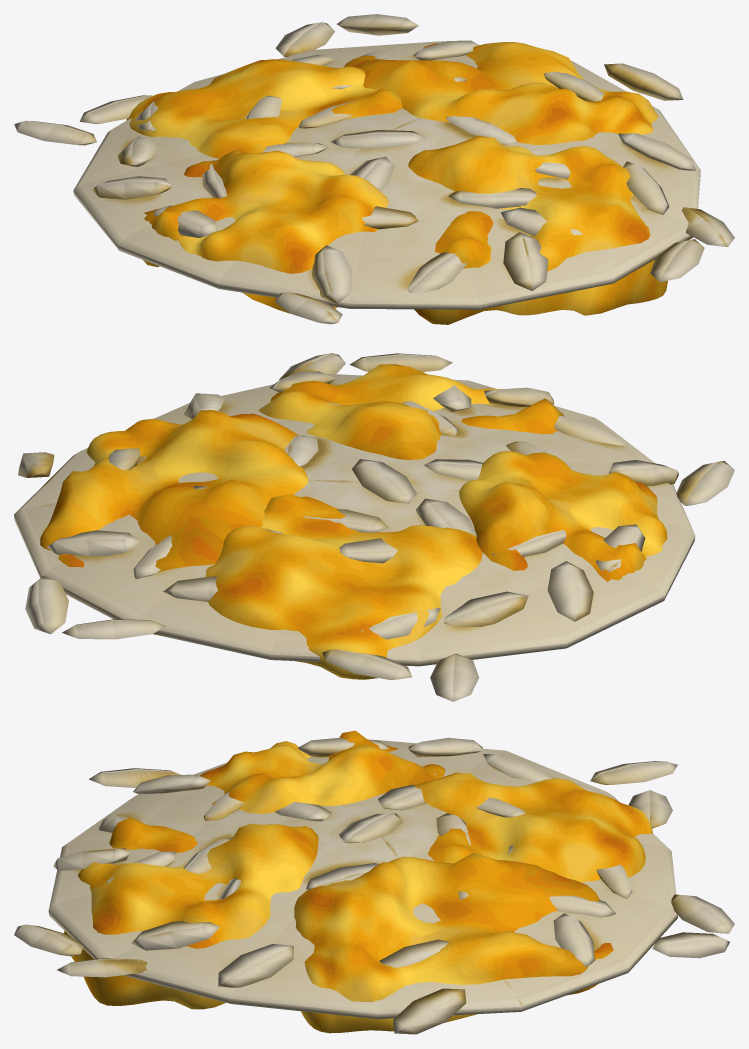
File: Web_FriedRice_Mesh_Base.fbx
The picture shows the model from 3 angles, top to bottom: view 1: azimuth 30°, elevation 25°; view 2: azimuth 150°, elevation 25°; view 3: azimuth 270°, elevation 25°; orthographic projection. The views are drawn at different scales.
Parts seen in each view (by area): view 1: 蛋炒饭; view 2: 蛋炒饭; view 3: 蛋炒饭.
Part boxes in pixels (x1,y1,x2,y2): 蛋炒饭: (14, 14, 734, 324); 蛋炒饭: (14, 353, 734, 701); 蛋炒饭: (14, 730, 734, 1034).
Size of the model in its own units: 81.93 by 15.83 by 86.55.
Materials: 1 (1 with a texture image).
